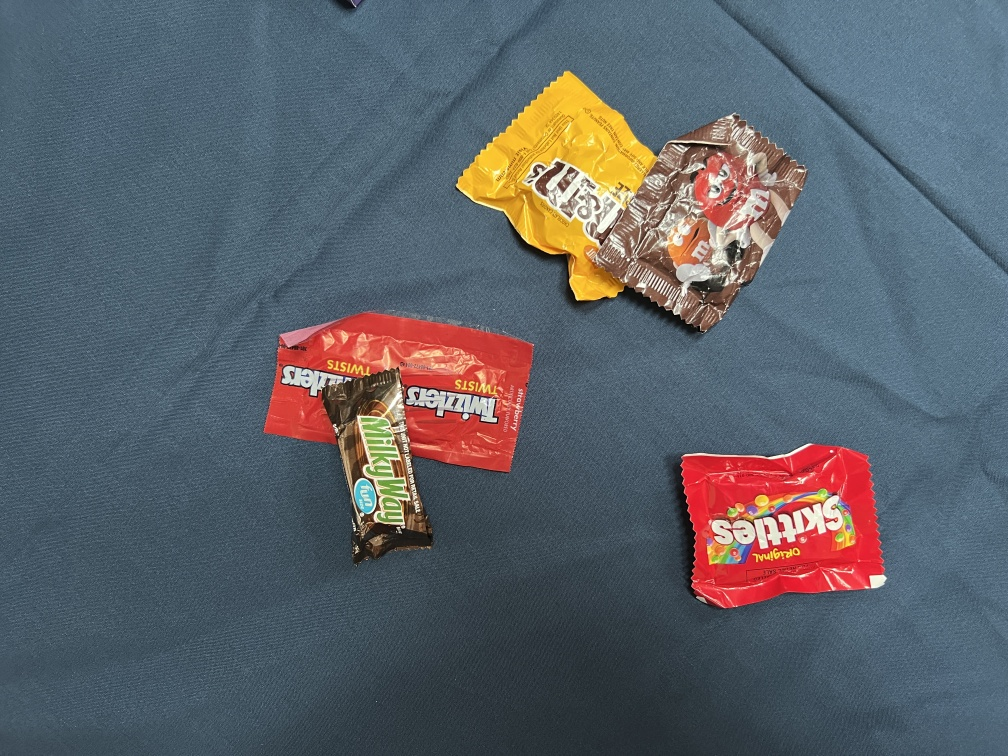MMs_regular: (595, 92, 819, 340), (446, 54, 652, 312)
milky_way: (313, 375, 441, 571)
skittles: (668, 436, 931, 624)
twizzlers: (259, 302, 536, 481)
